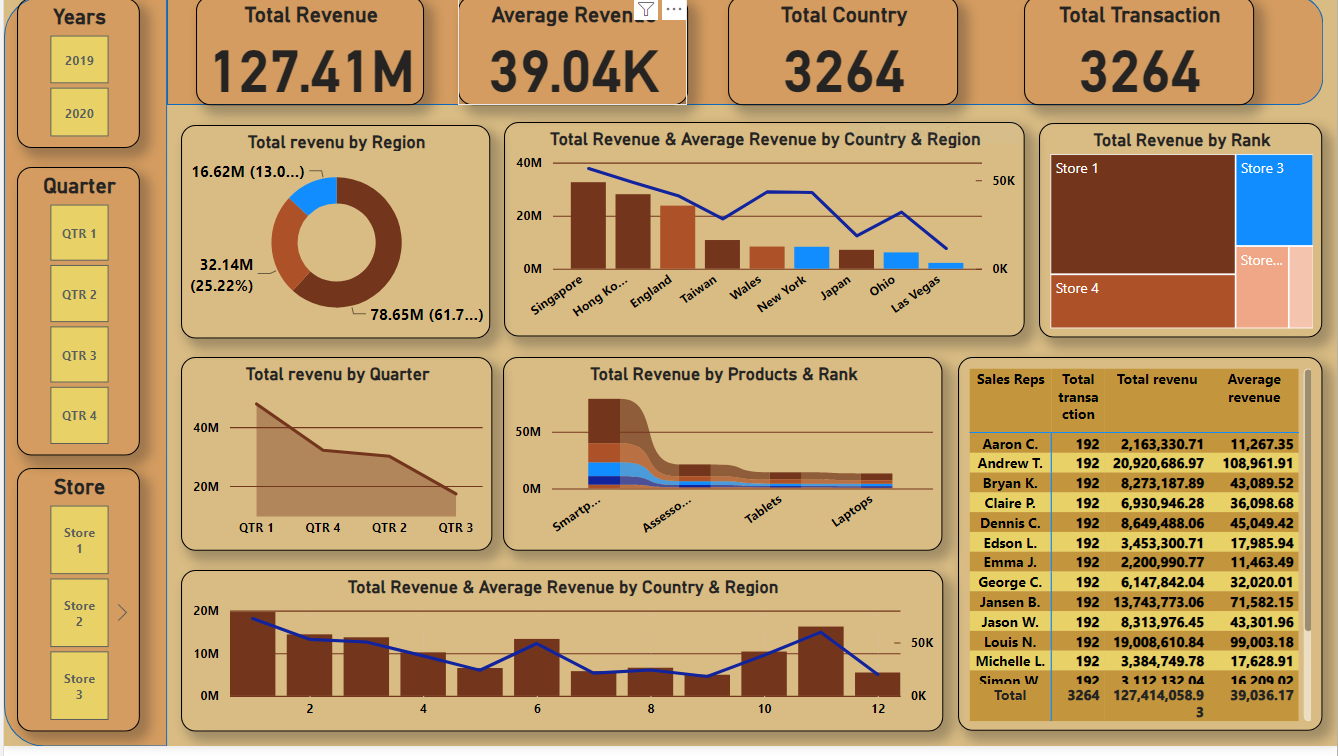

The page's visual inventory and layout, read from the dashboard file:
{"tool":"powerbi","page":{"name":"Page 1","canvas":[1280,720],"ordinal":0},"visuals":[{"type":"shape","box":[0,0,156.7,720.8],"z":0},{"type":"shape","box":[156.2,0,1110.3,104.8],"z":1000},{"type":"card","title":"Total Revenue","fields":{"Values":["Measure.Total revenu"]},"box":[184.4,0,219.4,105.1],"z":2000},{"type":"card","title":"Average Revenue","fields":{"Values":["Measure.Average revenue"]},"box":[435.7,0,220.6,104.8],"z":3000},{"type":"card","title":"Total Transaction","fields":{"Values":["Measure.Total transaction"]},"box":[979.8,0,220.6,104.8],"z":4000},{"type":"card","title":"Total Country","fields":{"Values":["Measure.Total country"]},"box":[695,0,221.2,105.1],"z":5000},{"type":"donutChart","fields":{"Category":["Sheet1.Region"],"Y":["Measure.Total revenu"]},"box":[169.6,123.5,296.8,204.6],"z":6000},{"type":"lineStackedColumnComboChart","title":"Total Revenue & Average Revenue by Country & Region","fields":{"Category":["Sheet1.Country"],"Y":["Measure.Total revenu"],"Y2":["Measure.Average revenue"],"Series":["Sheet1.Region"]},"box":[479.8,121.3,500,205.9],"z":7000},{"type":"treemap","title":"Total Revenue by Rank","fields":{"Values":["Measure.Total revenu"],"Group":["Sheet1.Rank"]},"box":[994.1,121.5,272.4,206.2],"z":8000},{"type":"areaChart","fields":{"Y":["Measure.Total revenu"],"Category":["Sheet1.Quarter"]},"box":[169.6,346.6,298.6,186.2],"z":9000},{"type":"ribbonChart","title":"Total Revenue by Products & Rank","fields":{"Category":["Sheet1.Products"],"Y":["Measure.Total revenu"],"Series":["Sheet1.Rank"]},"box":[479.3,346.6,422.2,186.2],"z":10000},{"type":"pivotTable","fields":{"Rows":["Sheet1.Sales Reps"],"Values":["Measure.Total transaction","Measure.Total revenu","Measure.Average revenue"]},"box":[916.2,346.6,350.3,359.5],"z":11000},{"type":"lineStackedColumnComboChart","title":"Total Revenue & Average Revenue by Country & Region","fields":{"Y":["Measure.Total revenu"],"Y2":["Measure.Average revenue"],"Category":["Sheet1.Month"]},"box":[169.6,551.2,731.9,154.9],"z":12000},{"type":"slicer","title":"Years","fields":{"Values":["Sheet1.Years"]},"box":[12.9,1.8,118,143.8],"z":13000},{"type":"slicer","title":"Quarter","fields":{"Values":["Sheet1.Quarter"]},"box":[12.9,164.1,118,276.5],"z":14000},{"type":"slicer","title":"Store","fields":{"Values":["Sheet1.Rank"]},"box":[12.9,453.5,118,252.6],"z":15000}]}

Visuals, with their boxes in screenshot pixels (x1, y1, x2, y2), scaled from the page's 1280x720 canvas onto the 1338x756 screenshot:
shape: 0:0:164:755
shape: 163:0:1324:110
"Total Revenue" card: 193:0:422:110
"Average Revenue" card: 455:0:686:110
"Total Transaction" card: 1024:0:1255:110
"Total Country" card: 726:0:958:110
donutChart - Sheet1.Region x Measure.Total revenu: 177:130:488:345
"Total Revenue & Average Revenue by Country & Region" lineStackedColumnComboChart: 502:127:1024:344
"Total Revenue by Rank" treemap: 1039:128:1324:344
areaChart - Measure.Total revenu x Sheet1.Quarter: 177:364:489:559
"Total Revenue by Products & Rank" ribbonChart: 501:364:942:559
pivotTable - Sheet1.Sales Reps x Measure.Total transaction: 958:364:1324:741
"Total Revenue & Average Revenue by Country & Region" lineStackedColumnComboChart: 177:579:942:741
"Years" slicer: 13:2:137:153
"Quarter" slicer: 13:172:137:463
"Store" slicer: 13:476:137:741
